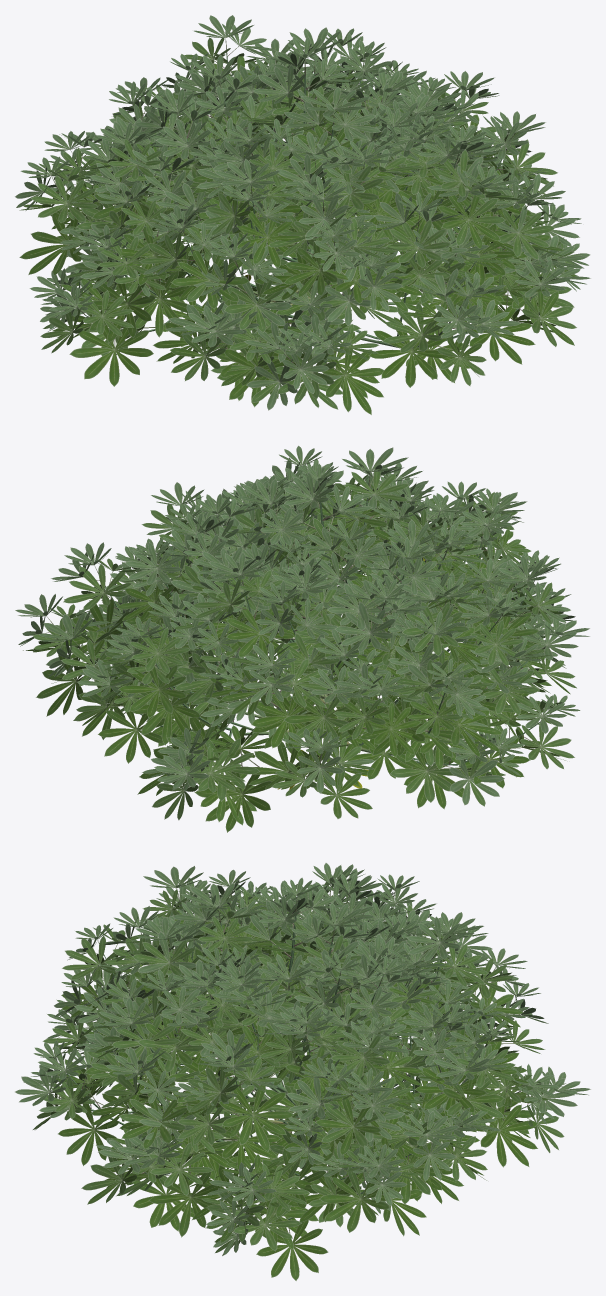
The model's file is Lupinus arboreus HD_Standard no flower mat 0_LOD1.fbx.
3 views of the same model, one above another, from view 1: azimuth 30°, elevation 25°; view 2: azimuth 150°, elevation 25°; view 3: azimuth 270°, elevation 25° (orthographic). The views are drawn at different scales.
Visible parts, largest first — view 1: Lupinus_arboreus_HD; view 2: Lupinus_arboreus_HD; view 3: Lupinus_arboreus_HD.
Part boxes in pixels (box(x1,y1,x2,y2)): Lupinus_arboreus_HD: box(15, 15, 590, 414); Lupinus_arboreus_HD: box(15, 445, 589, 832); Lupinus_arboreus_HD: box(15, 863, 590, 1280).
Bounding box in the file's own units: 1.27 × 0.6988 × 1.26.
Materials: 13 (13 with a texture image).
